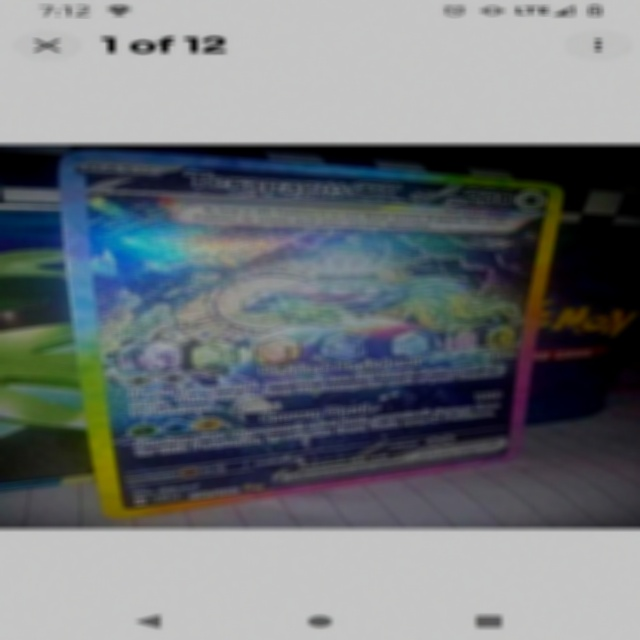card: (59, 148, 566, 519)
